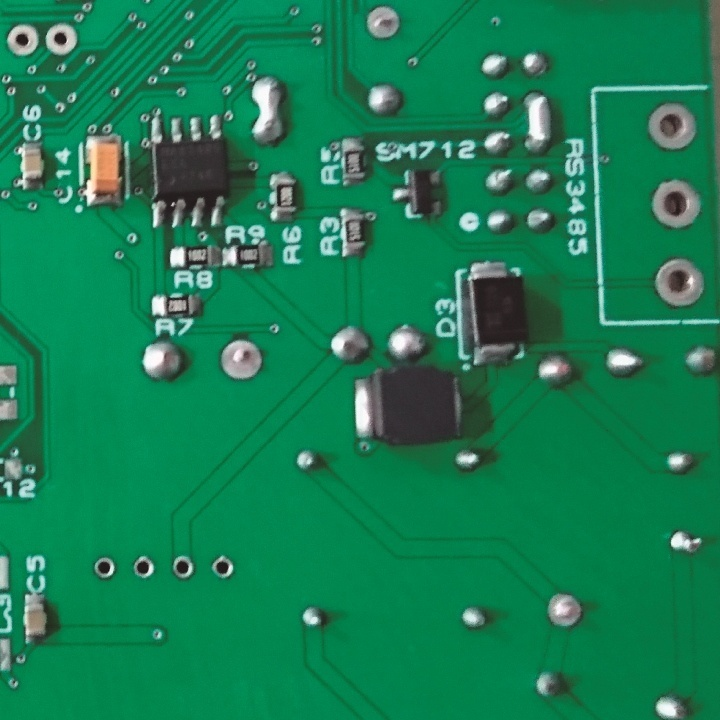F: (647, 100, 700, 156), (653, 256, 705, 313), (648, 178, 704, 230), (217, 336, 261, 382), (544, 591, 584, 632), (364, 6, 401, 43), (41, 22, 79, 58), (6, 23, 40, 58), (208, 555, 236, 582), (131, 554, 156, 582), (171, 554, 196, 580), (93, 556, 117, 582)
P: (247, 71, 290, 152), (520, 89, 559, 156)
